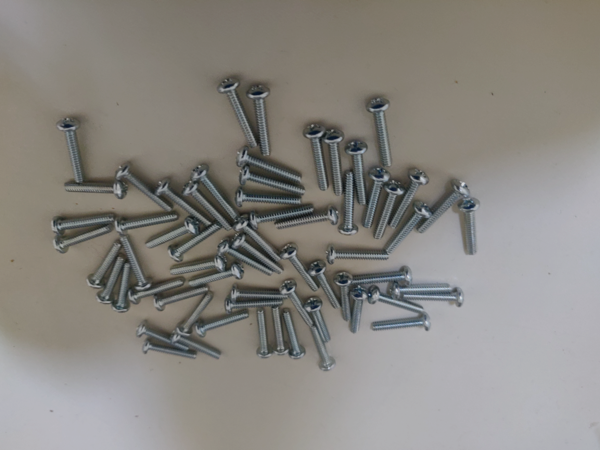longscrew: (215, 75, 255, 150), (415, 182, 470, 236), (367, 95, 403, 170), (156, 180, 208, 228), (117, 163, 168, 211), (193, 165, 237, 218), (185, 180, 229, 233), (236, 148, 304, 181), (216, 243, 273, 279), (50, 225, 112, 258), (385, 205, 427, 253), (392, 172, 427, 229), (239, 220, 283, 261), (57, 114, 82, 184), (141, 342, 199, 372), (112, 211, 178, 237), (133, 321, 190, 351), (240, 169, 303, 196), (235, 237, 282, 273), (305, 325, 338, 376), (281, 246, 318, 291), (171, 227, 221, 260), (123, 237, 153, 292), (281, 281, 314, 331), (177, 293, 212, 337), (370, 288, 423, 317), (249, 205, 310, 230), (375, 183, 401, 241), (171, 332, 223, 361), (308, 119, 329, 190), (276, 209, 337, 233), (50, 211, 113, 234), (458, 193, 481, 255), (250, 84, 270, 155), (346, 137, 367, 204), (63, 178, 126, 200), (96, 257, 123, 308), (235, 192, 301, 212), (156, 286, 211, 310), (312, 262, 340, 309), (366, 166, 387, 227), (305, 298, 334, 342), (321, 245, 388, 264), (147, 222, 200, 246), (281, 311, 306, 361), (268, 308, 293, 358), (253, 311, 278, 361), (130, 282, 184, 305), (340, 174, 360, 236), (194, 316, 249, 337), (354, 269, 420, 286), (90, 243, 115, 287), (183, 269, 244, 287), (165, 258, 225, 276), (369, 315, 428, 333), (403, 293, 468, 309), (333, 271, 353, 322), (327, 127, 341, 196), (387, 281, 451, 295), (229, 285, 288, 300), (224, 297, 282, 312), (113, 262, 129, 313), (349, 288, 366, 335)
